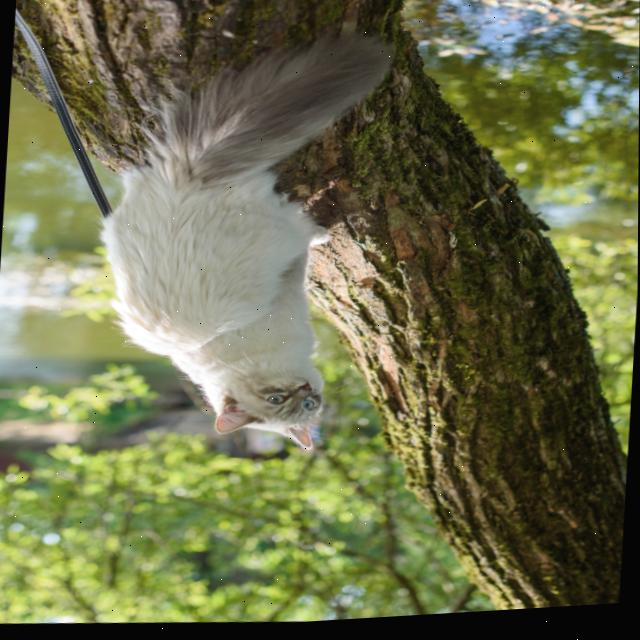Neva Masquerade: (87, 16, 397, 470)
